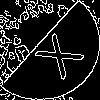X: (25, 25, 86, 81)
